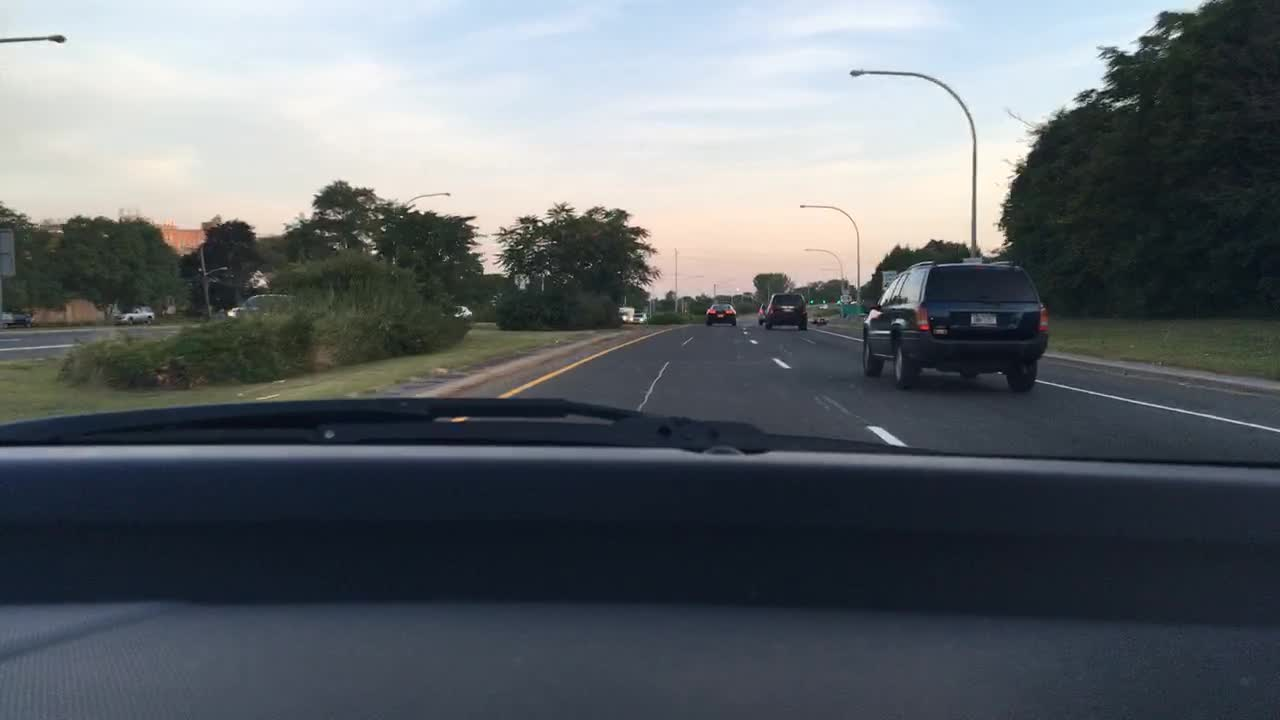car: (859, 258, 1049, 390), (226, 293, 295, 319), (764, 292, 806, 329), (111, 302, 157, 326), (703, 300, 739, 327), (0, 305, 32, 329), (440, 302, 474, 322), (756, 299, 769, 324), (616, 305, 634, 322), (629, 310, 649, 324), (808, 314, 827, 326)
traffic sign: (0, 226, 17, 280), (881, 266, 897, 293), (837, 288, 850, 300)
